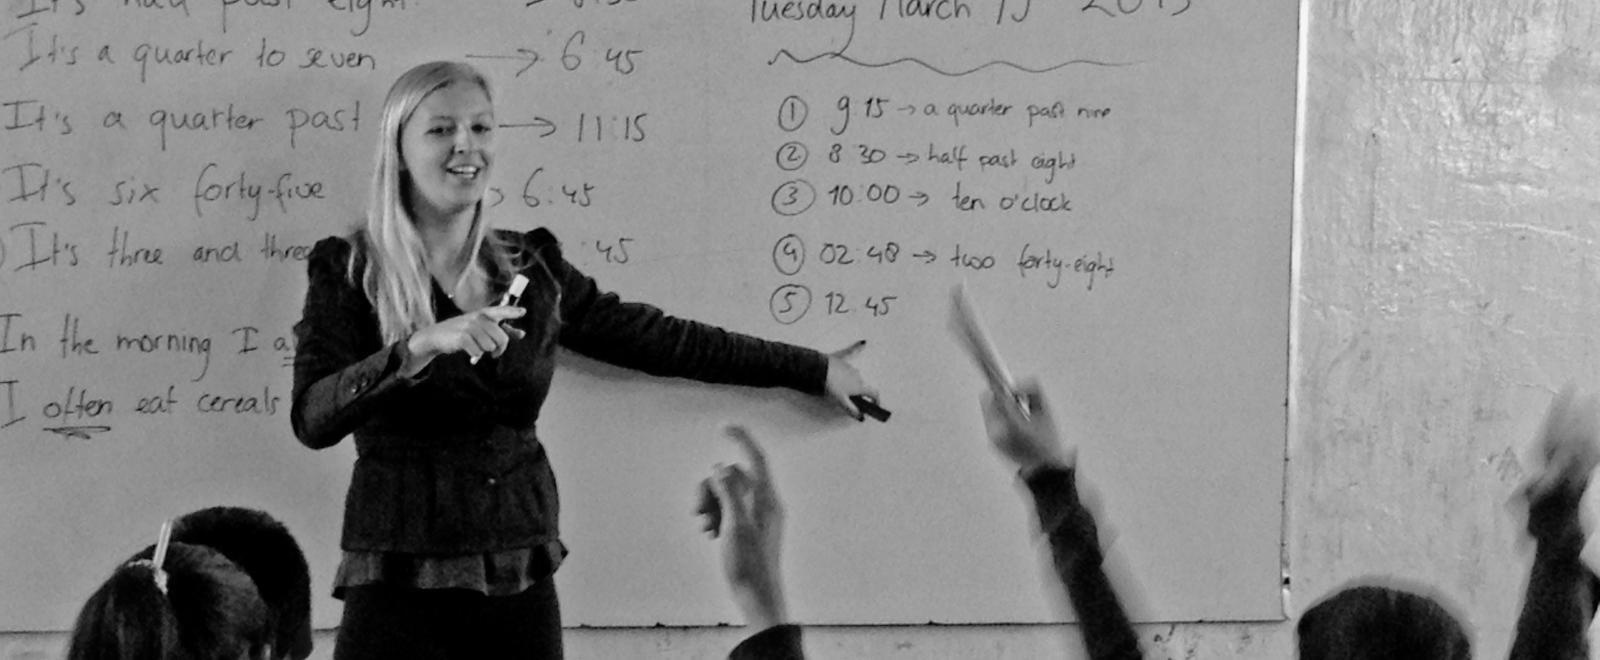pointing_gesture: (426, 305, 548, 363), (826, 336, 881, 425)
